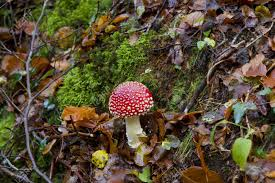Amanita muscaria: (103, 76, 159, 150)
